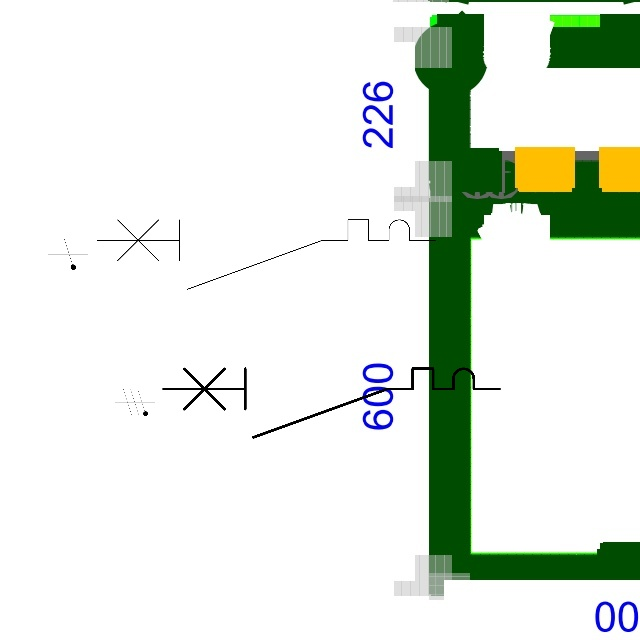interruptor_termomagnetico: (88, 211, 444, 298), (154, 360, 507, 446)
